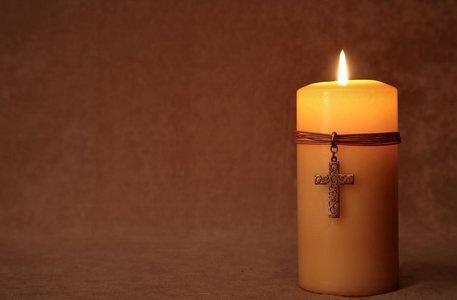fire: (330, 39, 358, 90)
